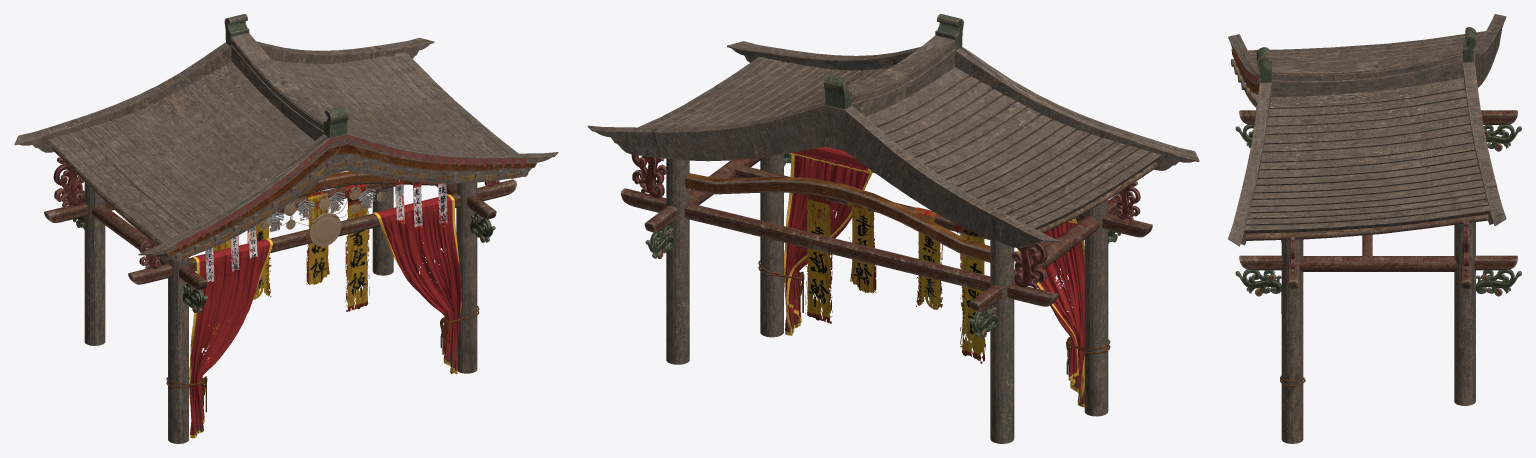
The model's file is Roof.fbx.
3 renders of one model, left to right at view 1: azimuth 30°, elevation 25°; view 2: azimuth 150°, elevation 25°; view 3: azimuth 270°, elevation 25°, orthographic. The views are drawn at different scales.
Visible parts, largest first — view 1: XI_AWT_Throne_Roof.Shape; view 2: XI_AWT_Throne_Roof.Shape; view 3: XI_AWT_Throne_Roof.Shape.
Part boxes in pixels (left/top/right/bottom): XI_AWT_Throne_Roof.Shape: left=14, top=14, right=558, bottom=443; XI_AWT_Throne_Roof.Shape: left=587, top=14, right=1199, bottom=443; XI_AWT_Throne_Roof.Shape: left=1228, top=14, right=1521, bottom=443.
Size of the model in its own units: 1270 by 939 by 746.
Materials: 3 (3 with a texture image).
